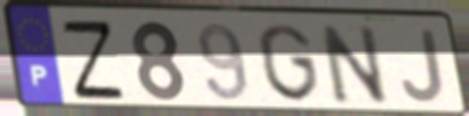8: (128, 18, 188, 104)
9: (194, 21, 252, 104)
G: (255, 22, 323, 105)
J: (398, 27, 447, 105)
N: (316, 21, 392, 107)
Z: (58, 18, 129, 102)
